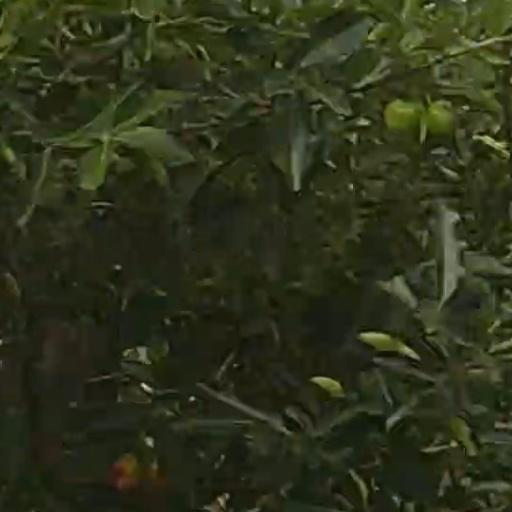acerola: (384, 100, 418, 131), (428, 97, 452, 134)
